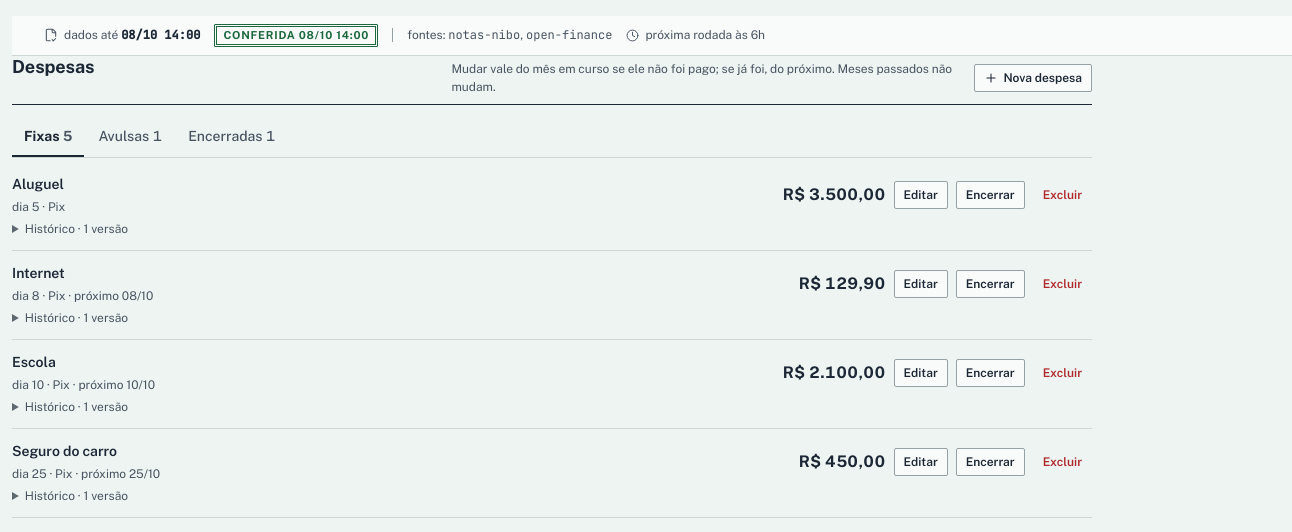
Test case: Cadastros › Despesas: as abas Fixas, Avulsas e Encerradas filtram a lista
The image size is (1292, 532).
(page scrolled)
Expected: the text "Aluguel" is shown, [12,176,64,192]
Expected: the tab "Fixas 5" is shown, [12,117,84,157]
Click the tab "Avulsas 1": (130, 137) [86,117,174,157]
(page scrolled)
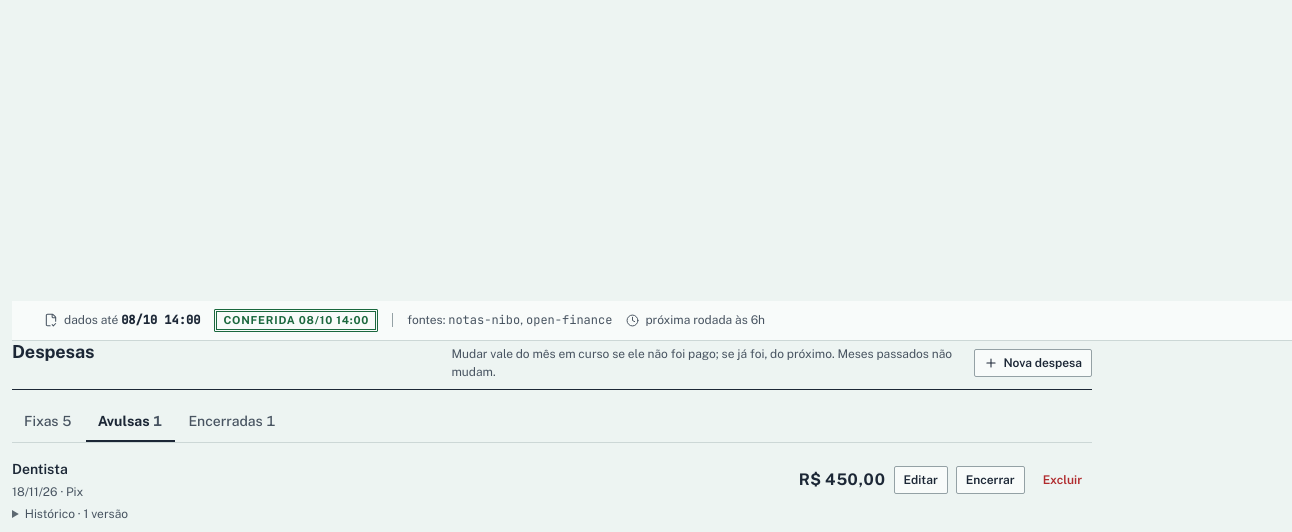
Now the text "Dentista" is shown, box [12,461,68,477]
Now the text "Aluguel" is gone
Click the tab "Encerradas 1": (232, 422) [176,402,288,442]
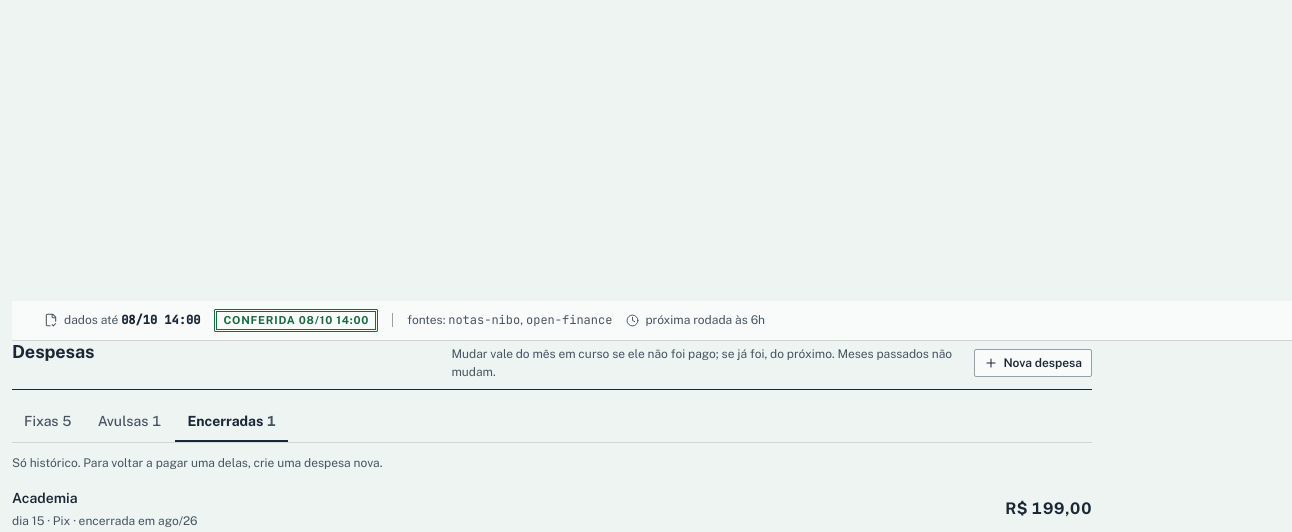
Expected: the text "Aluguel" is not shown
Now the text "Academia" is shown, box [12,490,78,506]
